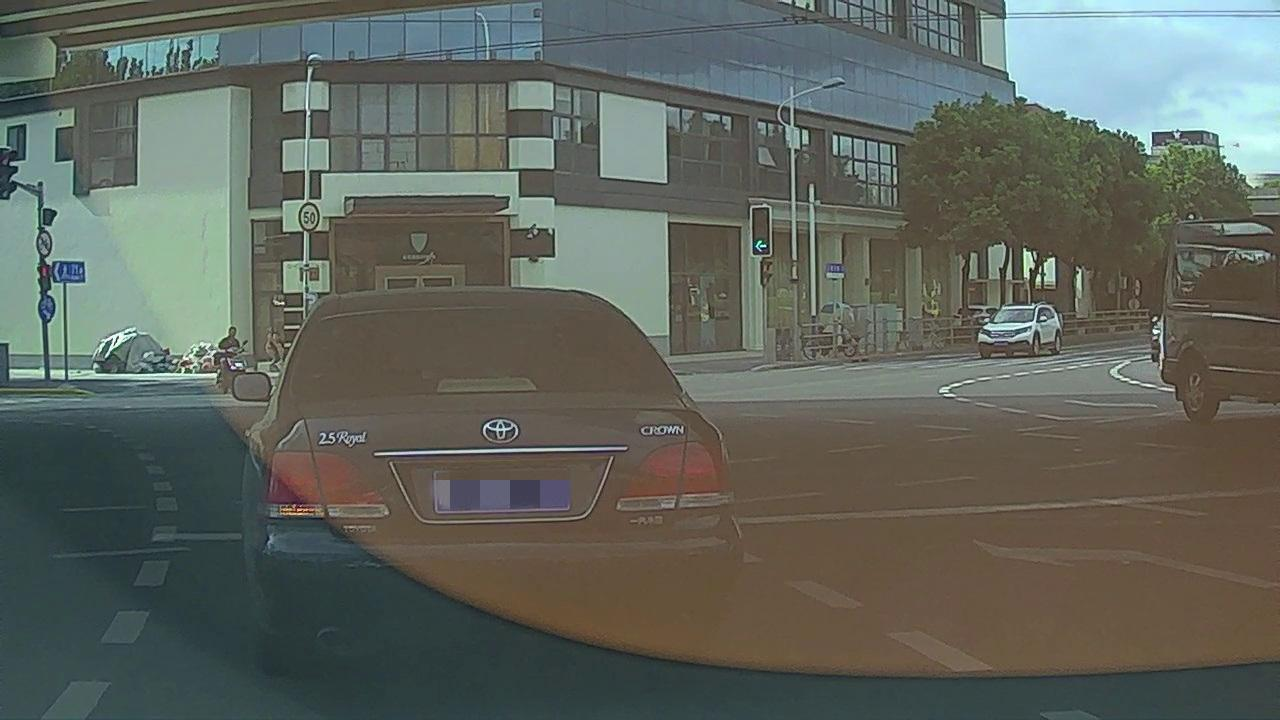traffic_light: (751, 207, 770, 255)
